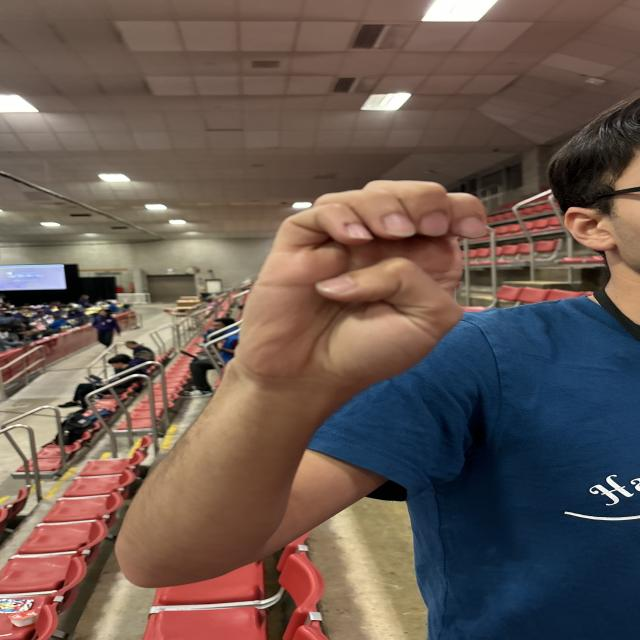E: (227, 164, 518, 382)
